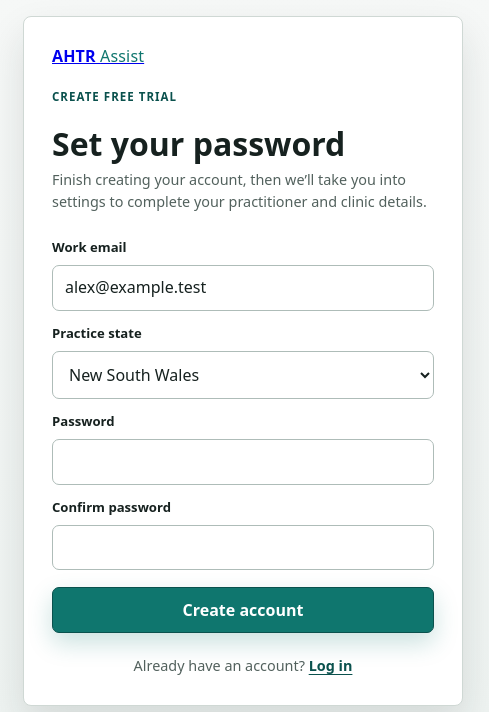
SignupScreen › shows the duplicate email message returned during account creation
The image size is (489, 712).
Type "password123" into the password field labelled "Password" at (243,462), box [52,439,434,485]
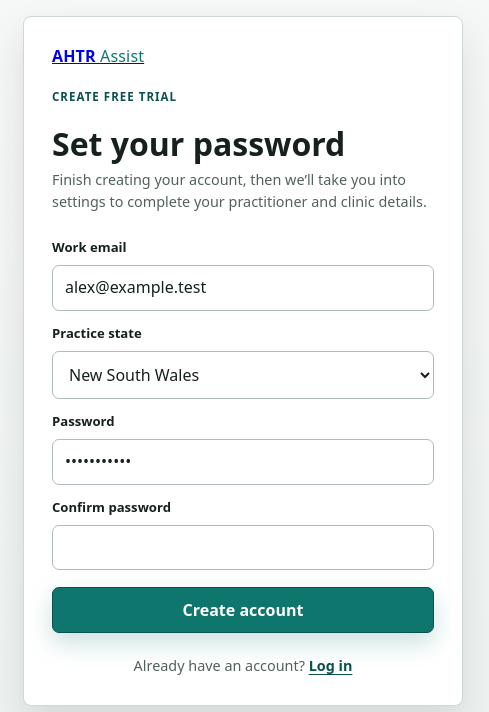
Type "password123" into the password field labelled "Confirm password" at (243,547), box [52,525,434,570]
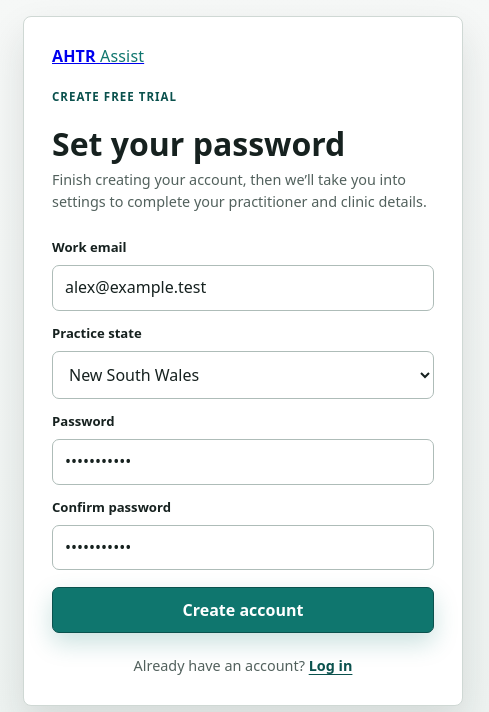
Submit the form "Create account", box [52,234,434,633]
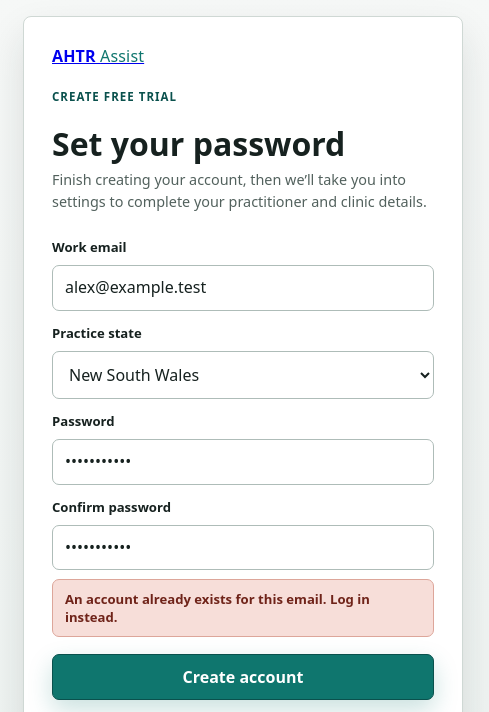
Expected: the message reads "An account already exists for this email. Log in instead.", [65,590,370,626]
